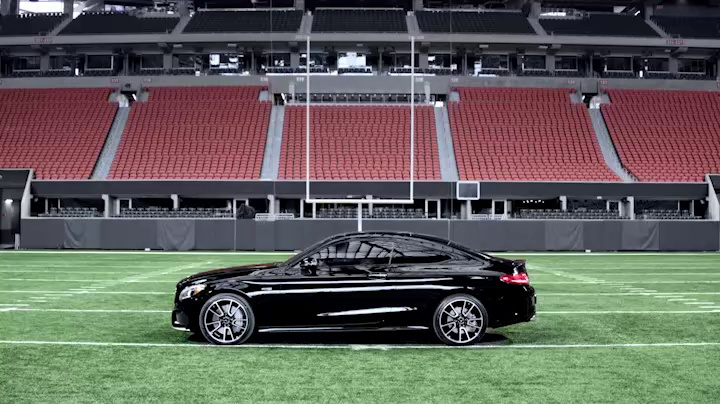amg: (170, 226, 537, 349)
